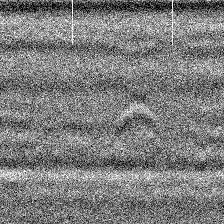Utility: (115, 103, 158, 139)
